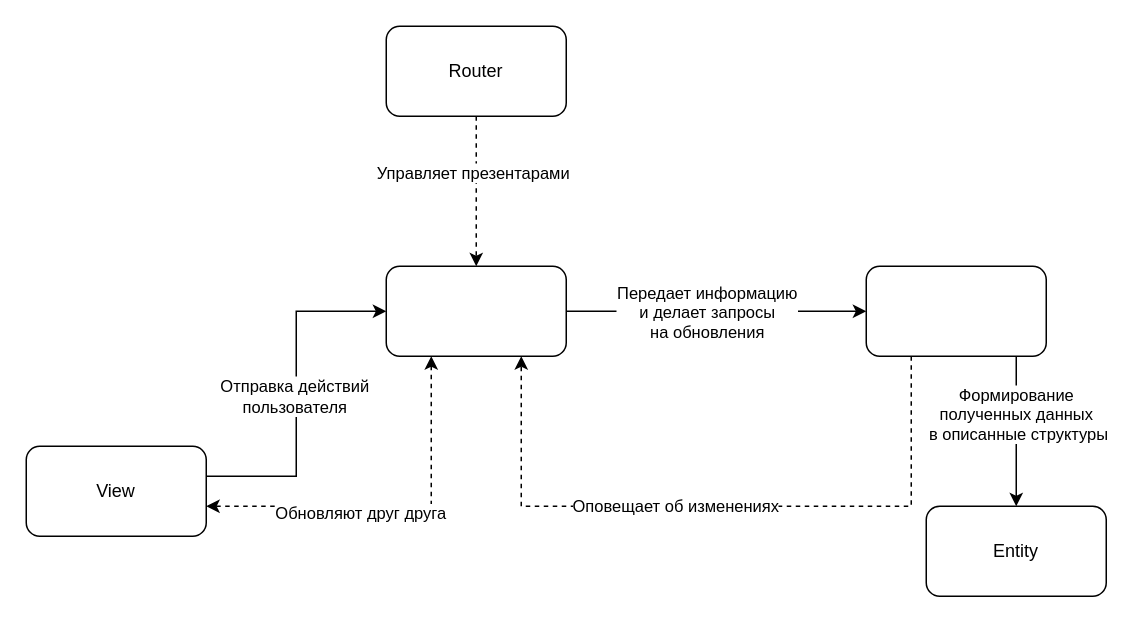
The diagram is 1134 pixels wide and 623 high, and some of its shapes have lost their labels. The box of each missing label's shape, as (x1, y1, x2, y2) in pixels:
Interactor: (865, 265, 1046, 356)
Presenter: (385, 265, 566, 356)
